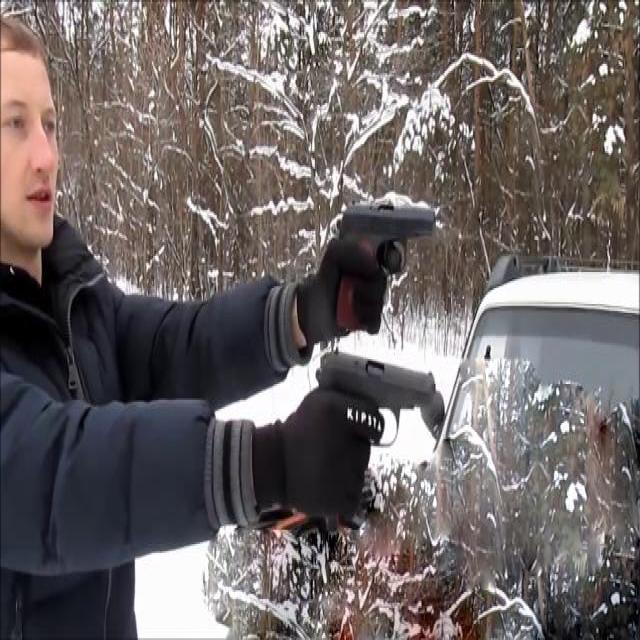pistol: (333, 202, 438, 326), (316, 348, 436, 450)
